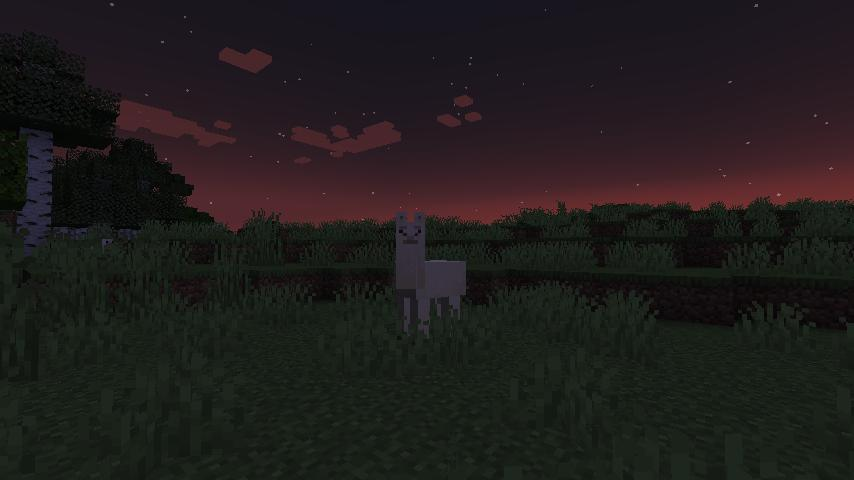llama: (392, 208, 468, 336)
